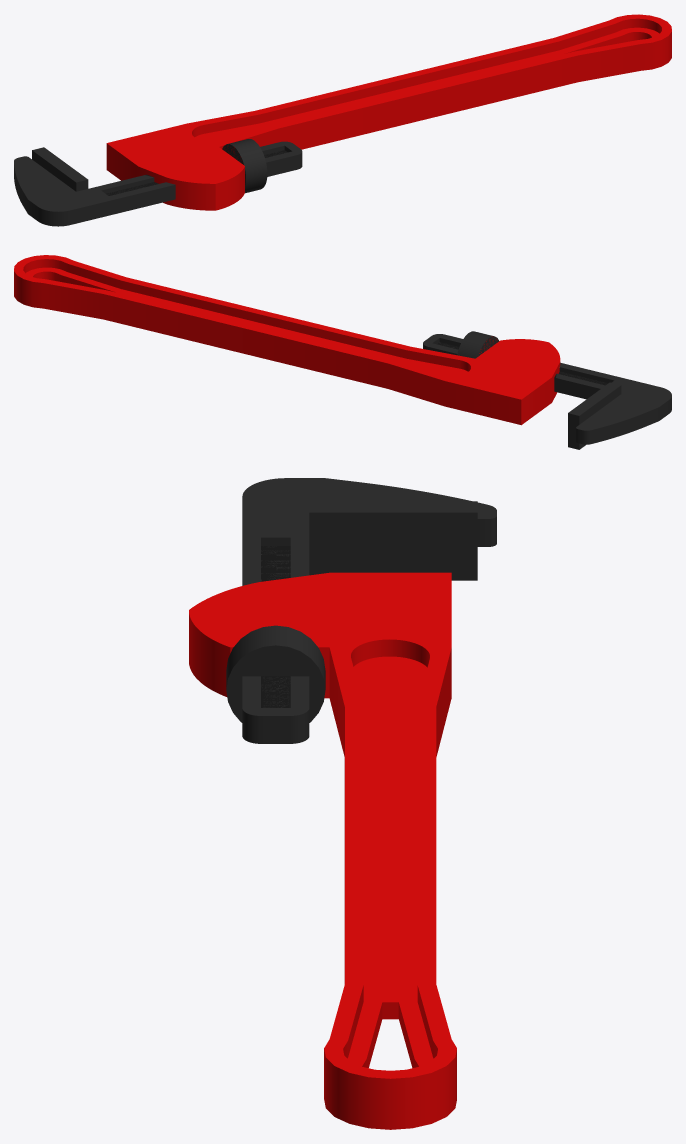
Rendered from monkey_wrench.dae.
The picture shows the model from 3 angles, top to bottom: view 1: azimuth 30°, elevation 25°; view 2: azimuth 150°, elevation 25°; view 3: azimuth 270°, elevation 25°; orthographic projection. The views are drawn at different scales.
Visible parts, largest first — view 1: group_0 (×5); view 2: group_0 (×5); view 3: group_0 (×6).
Boxes of the visible parts, x1,y1,x2,y2 form: group_0 (×5): [14, 14, 671, 226]; group_0 (×5): [14, 255, 671, 449]; group_0 (×6): [189, 478, 496, 1129].
Size of the model in its own units: 15.38 by 3.29 by 1.06.
